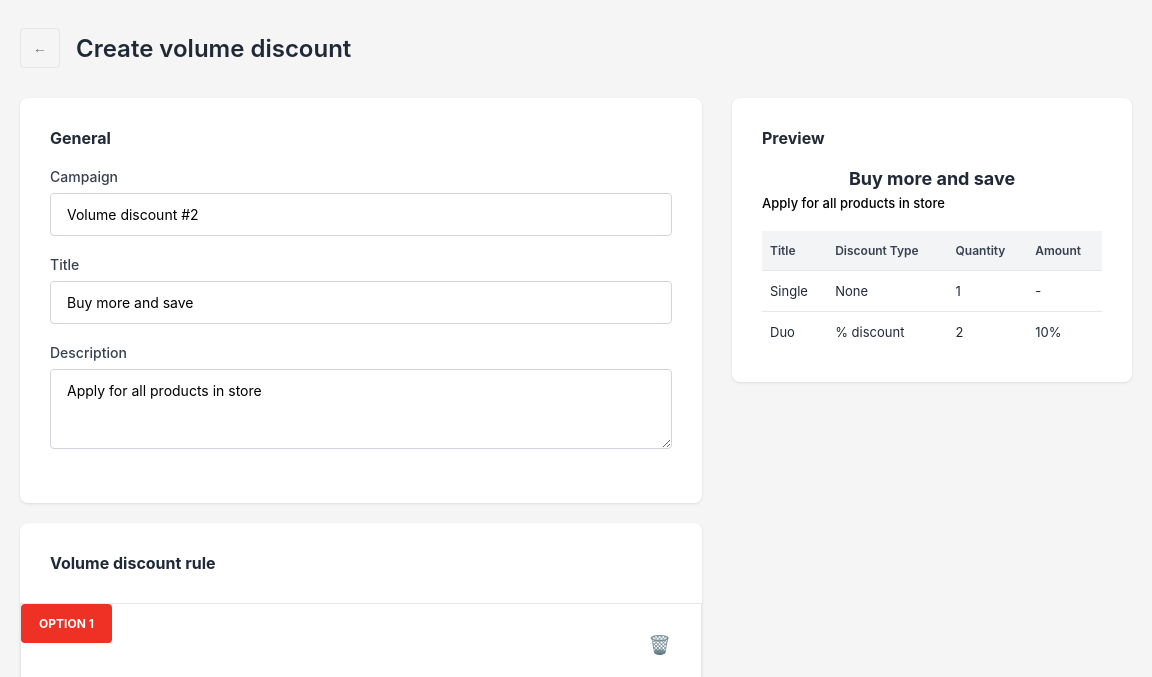
Scenario: VolumeDiscountForm Component › Field Array Management › prevents removing the last option by showing error on submit
Click the button "🗑️" at (660, 645), box [648,634,671,656]
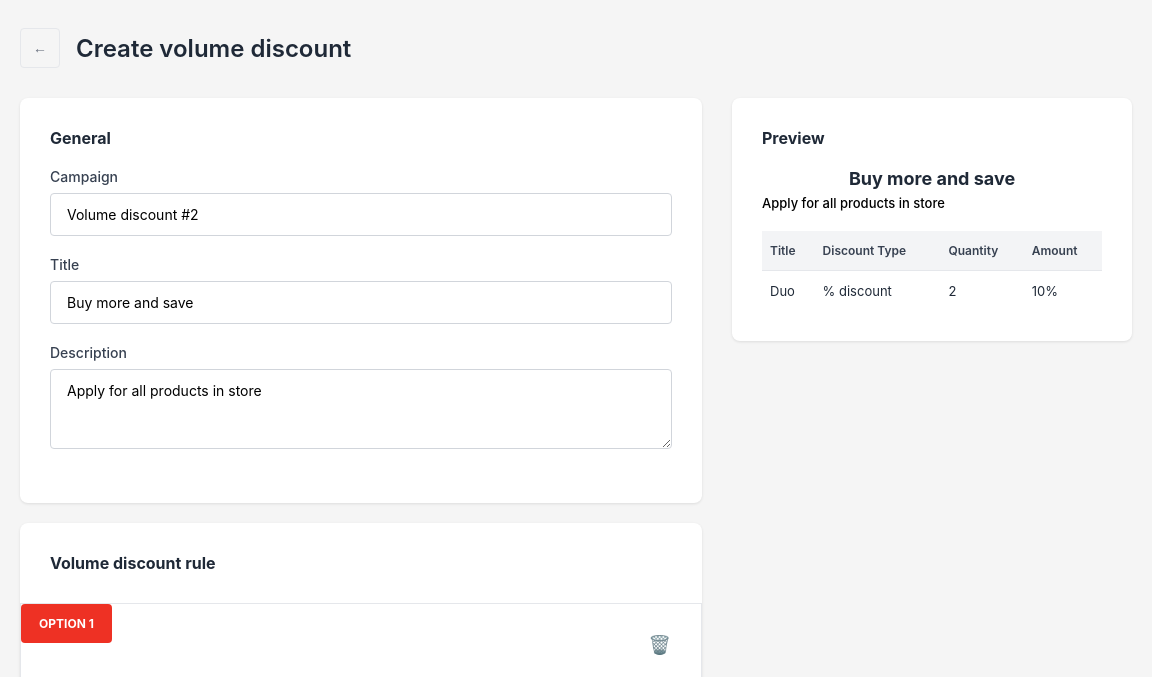
Expected: the text "OPTION 1" is shown once, [21,604,112,643]
// Click again to remove the last option
Click the button "🗑️" at (660, 645), box [648,634,671,656]
(page scrolled)
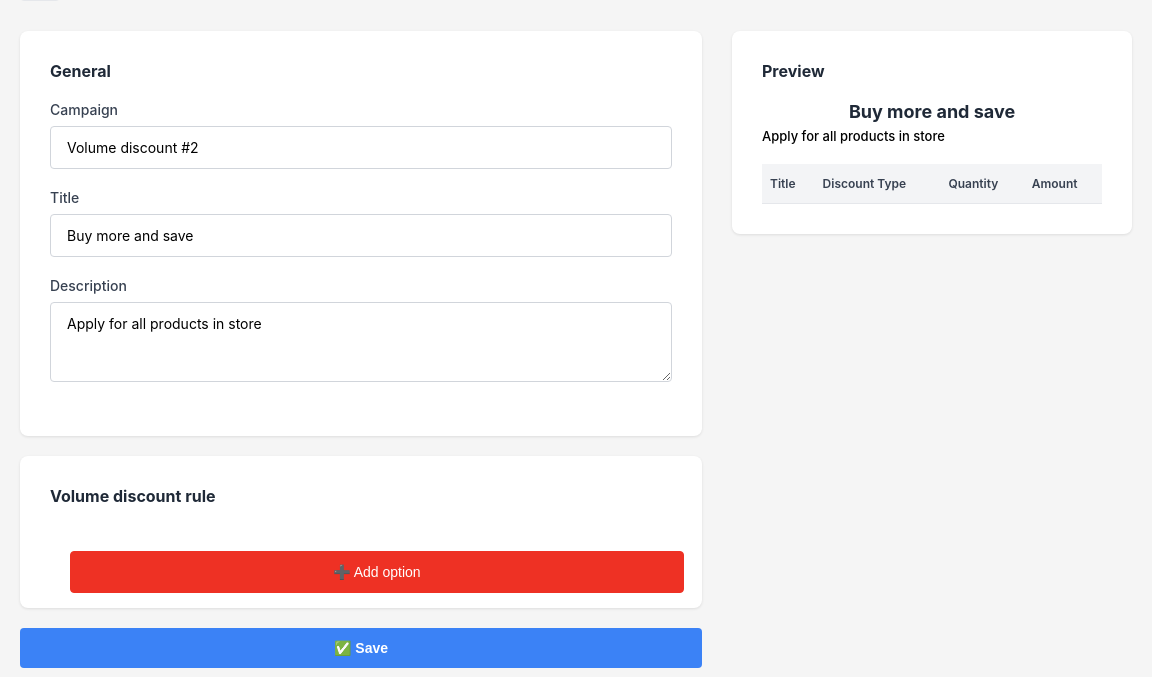
Now the text "OPTION 1" is not shown
Click the button "✅ Save" at (361, 648), box [20,628,702,668]
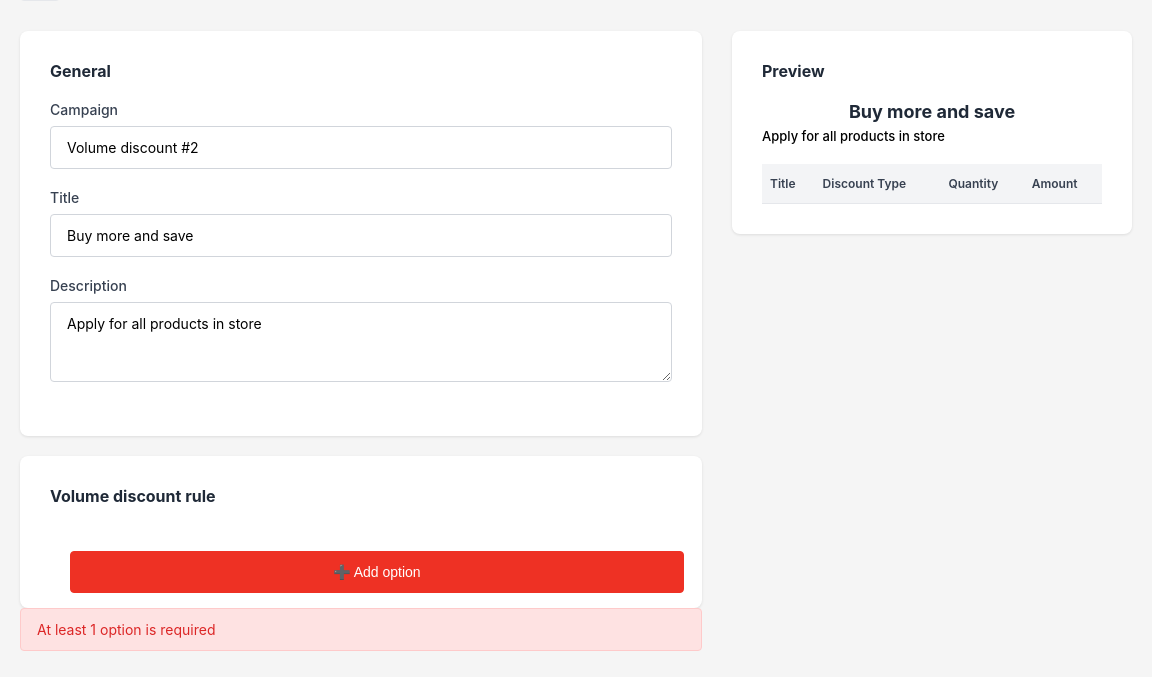
Now the text "At least 1 option is required" is shown, box [20,608,702,651]
